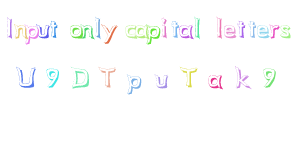9: (43, 66, 60, 90), (261, 66, 277, 89)
D: (70, 65, 90, 89)
I: (2, 15, 19, 41)
T: (179, 64, 199, 88), (97, 65, 116, 89)
U: (13, 64, 37, 88)
a: (206, 72, 224, 91), (179, 21, 195, 41), (134, 23, 149, 39)
c: (124, 22, 137, 40)
e: (256, 23, 269, 40), (223, 23, 236, 39)
i: (159, 17, 169, 40)
k: (233, 62, 253, 92)
l: (213, 14, 225, 40), (193, 16, 203, 39), (93, 14, 102, 39)
n: (80, 22, 94, 40), (14, 21, 27, 40)
o: (69, 23, 84, 39)
p: (24, 22, 41, 48), (125, 74, 142, 96), (146, 23, 160, 46)
r: (269, 23, 280, 40)
s: (279, 23, 291, 40)
t: (49, 18, 60, 40), (246, 18, 257, 39), (170, 21, 180, 40), (237, 19, 246, 39)
u: (153, 72, 169, 90), (35, 22, 50, 41)
y: (101, 22, 118, 45)
